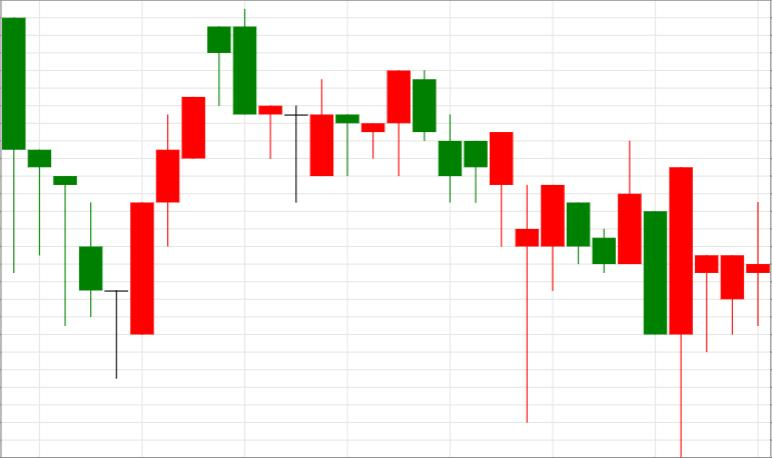bullish_engulfing_rise: (413, 69, 693, 457)
hanging_man_fall: (104, 27, 231, 377)
